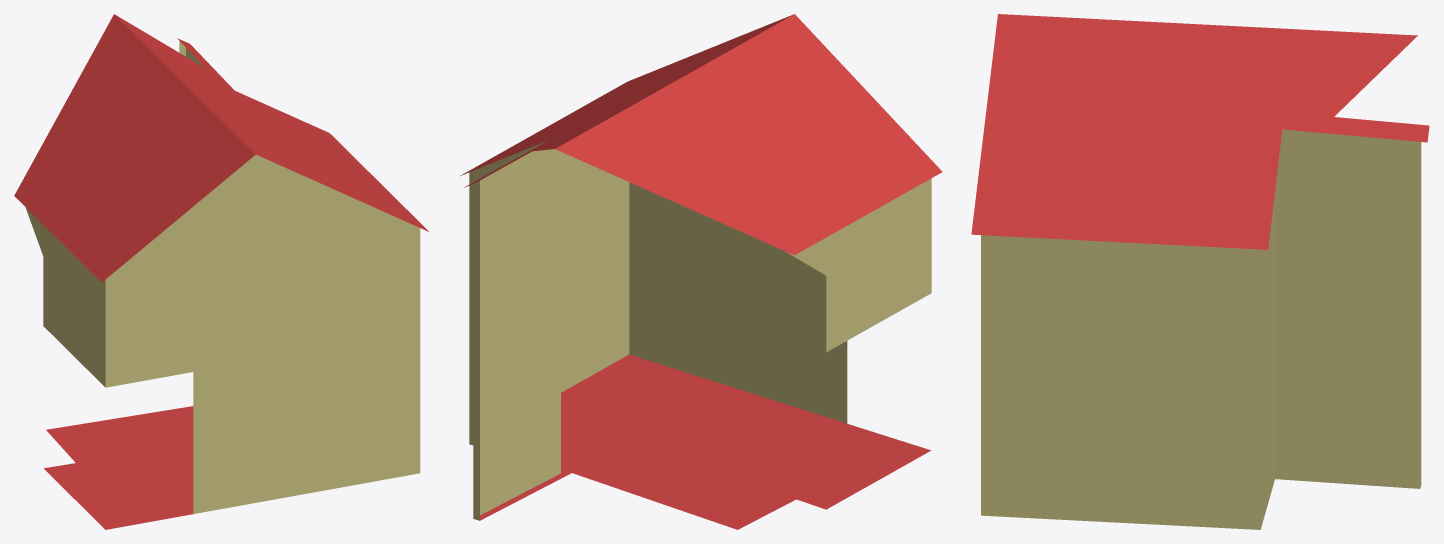
3 views of the same model, side by side, from view 1: azimuth 30°, elevation 25°; view 2: azimuth 150°, elevation 25°; view 3: azimuth 270°, elevation 25° (orthographic). The views are drawn at different scales.
Bounding box in the file's own units: 13.25 × 13.48 × 13.37.
